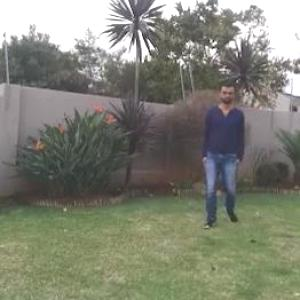follow: (201, 79, 244, 222)
